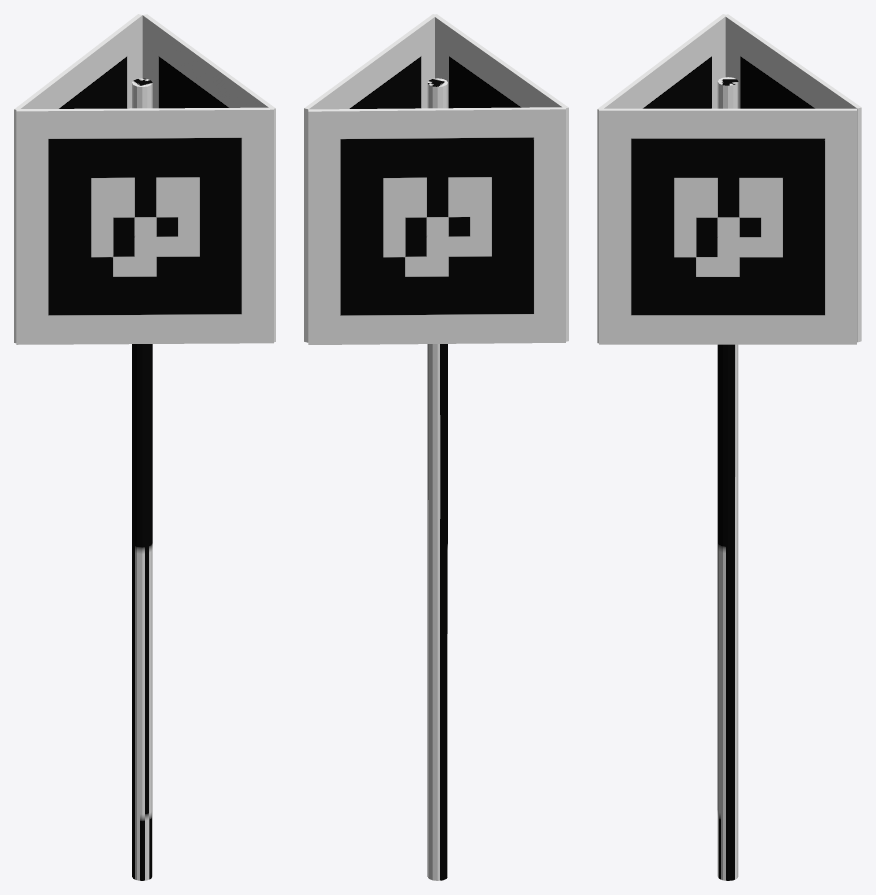
The model's file is Marker5.dae.
The picture shows the model from 3 angles, left to right: view 1: azimuth 30°, elevation 25°; view 2: azimuth 150°, elevation 25°; view 3: azimuth 270°, elevation 25°; orthographic projection.
Parts seen in each view (by area): view 1: Marker0; view 2: Marker0; view 3: Marker0.
Boxes of the visible parts, bbox=[...] form: Marker0: bbox=[14, 14, 275, 880]; Marker0: bbox=[304, 14, 568, 880]; Marker0: bbox=[597, 14, 861, 880].
Size of the model in its own units: 0.4433 by 0.5127 by 1.71.
